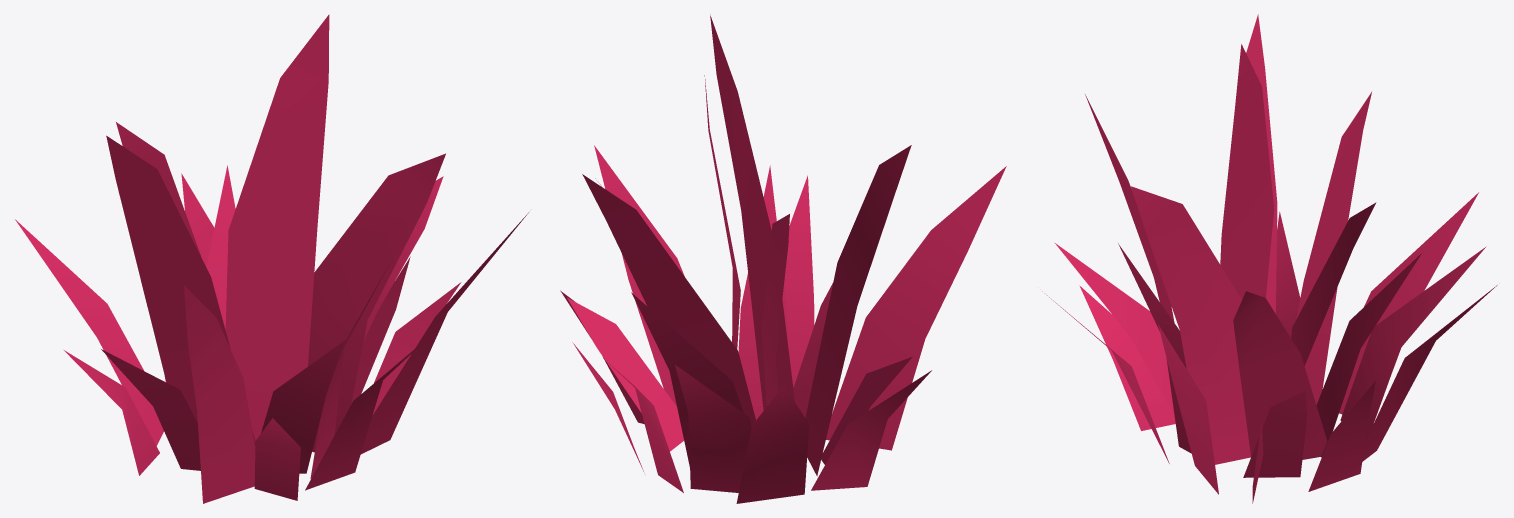
The model's file is Forest_Grass_01.fbx.
The picture shows the model from 3 angles, left to right: view 1: azimuth 30°, elevation 25°; view 2: azimuth 150°, elevation 25°; view 3: azimuth 270°, elevation 25°; orthographic projection. The views are drawn at different scales.
Visible parts, largest first — view 1: Forest_Grass_01; view 2: Forest_Grass_01; view 3: Forest_Grass_01.
Part boxes in pixels (x1,y1,x2,y2): Forest_Grass_01: (15,14,528,503); Forest_Grass_01: (560,14,1006,503); Forest_Grass_01: (1042,14,1497,503).
Size of the model in its own units: 33.73 by 34 by 33.5.
